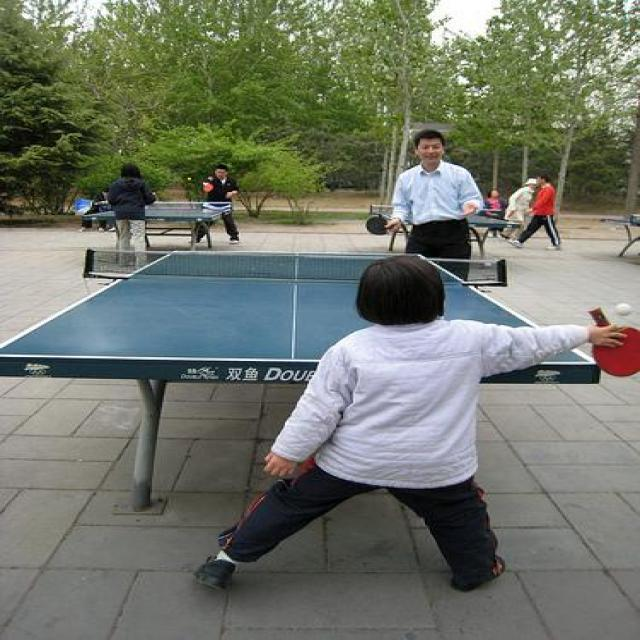ping-pong-ball: (615, 302, 633, 316)
